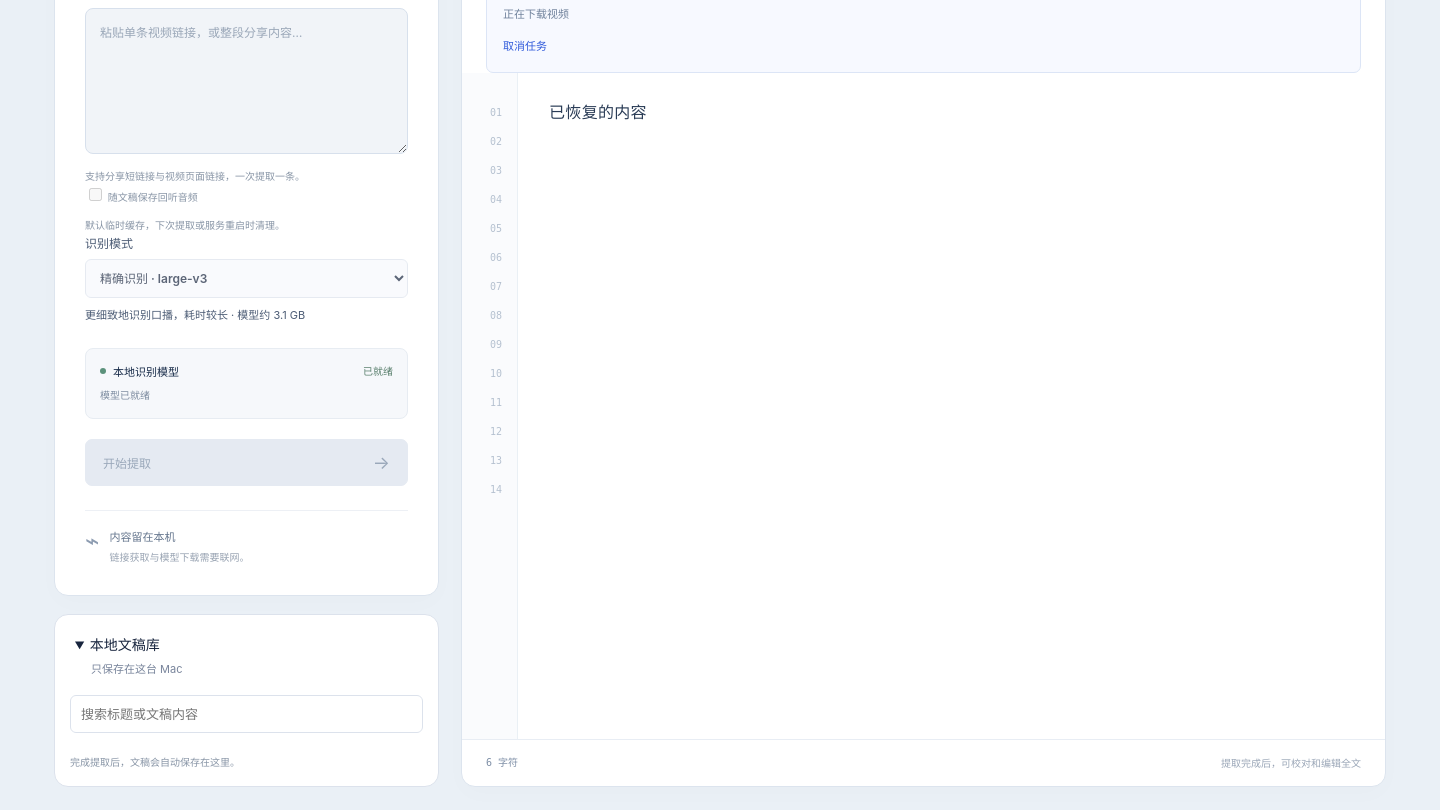
Test case: 本地文案工作台 › restores an active task, waits for the complete result, then permits editing
This screenshot has width=1440, height=810.
Later steps or results of the test are not shown.
(page scrolled)
Type "过早编辑" into the text box named "文稿全文" at (952, 406), box [518, 73, 1385, 739]
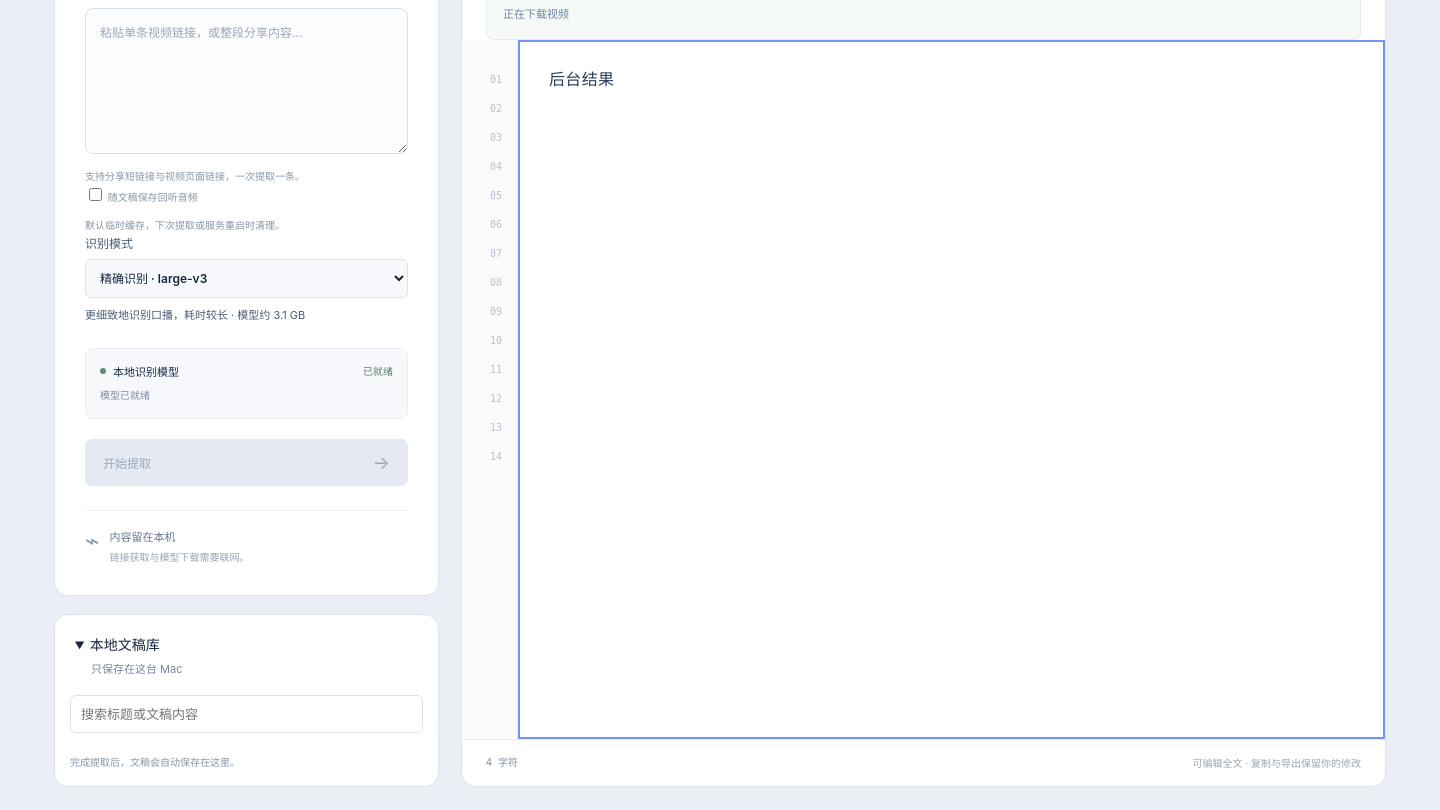
Check: the text box named "文稿全文" holds "后台结果"
Replace the text in the text box named "文稿全文" with "我的编辑" at (952, 389), box [518, 40, 1385, 739]
(page scrolled)
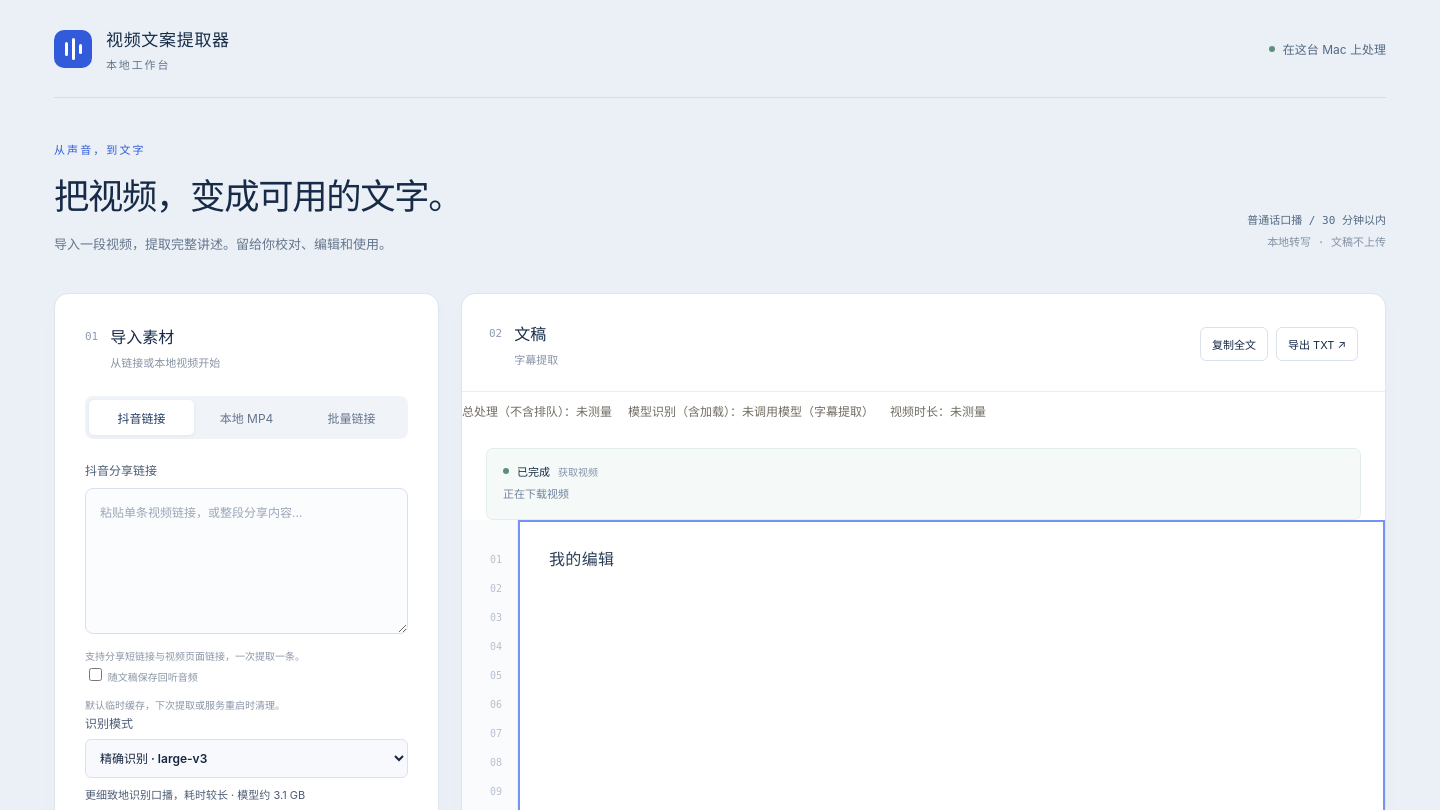
Check: the text "字幕提取" is shown, box [514, 351, 558, 367]
